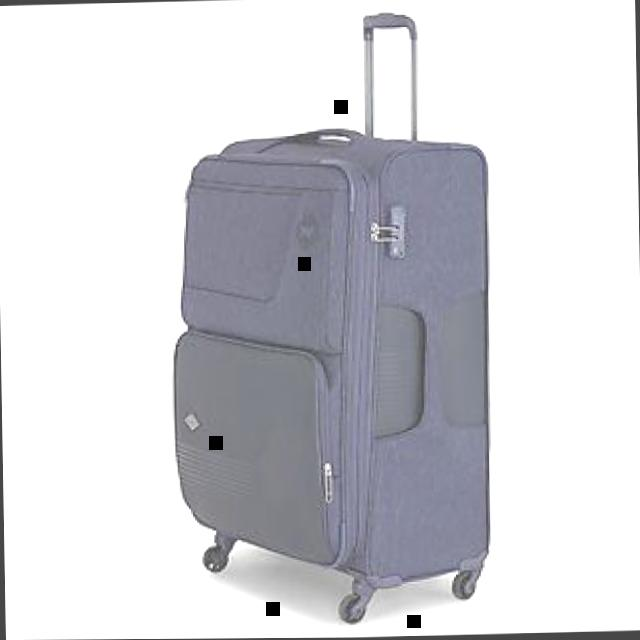luggage: (161, 119, 504, 599)
